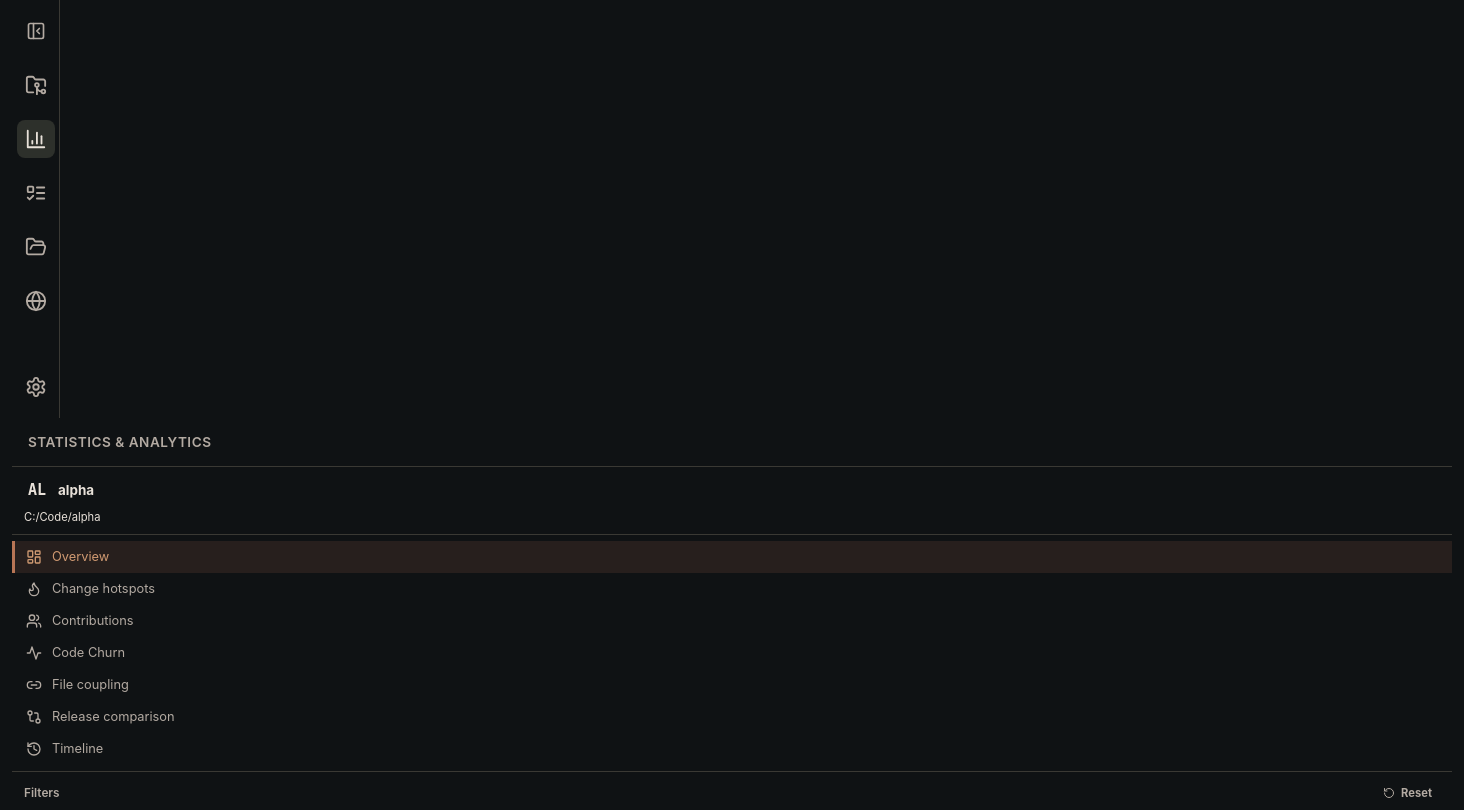
Scenario: standalone analytics navigation › keeps each repository section and follows report drilldowns in the sidebar
What coordinates should you click on to do the following:
click the button "Change hotspots"
I would click on:
 (103, 589)
Its box is [12,573,1452,605].
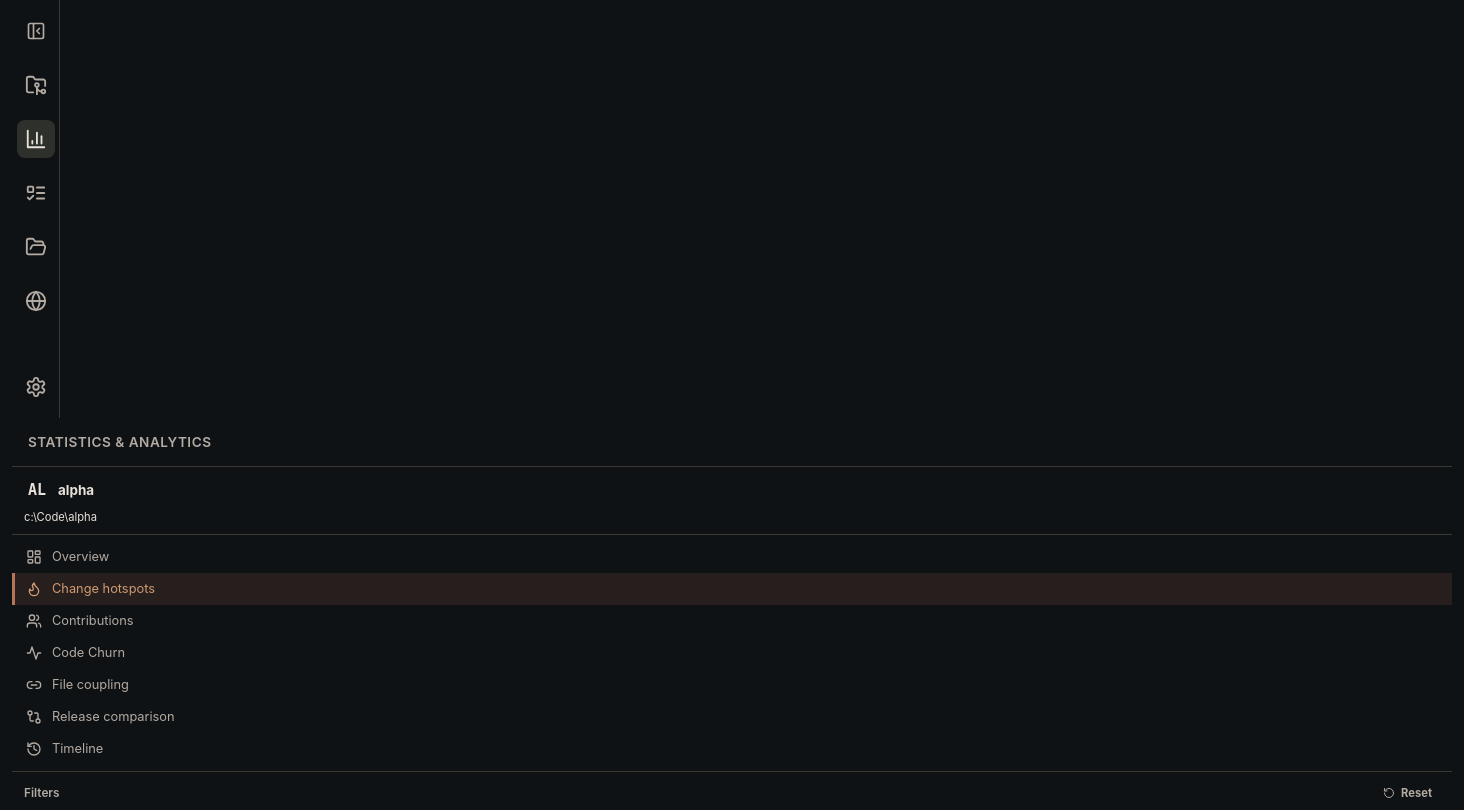
Check: the text "Overview" is shown, box [52,548,109,566]
Check: the text with class "analytics-sidebar-repository-path" reads "c:\\Code\\alpha", box [24,510,97,524]
